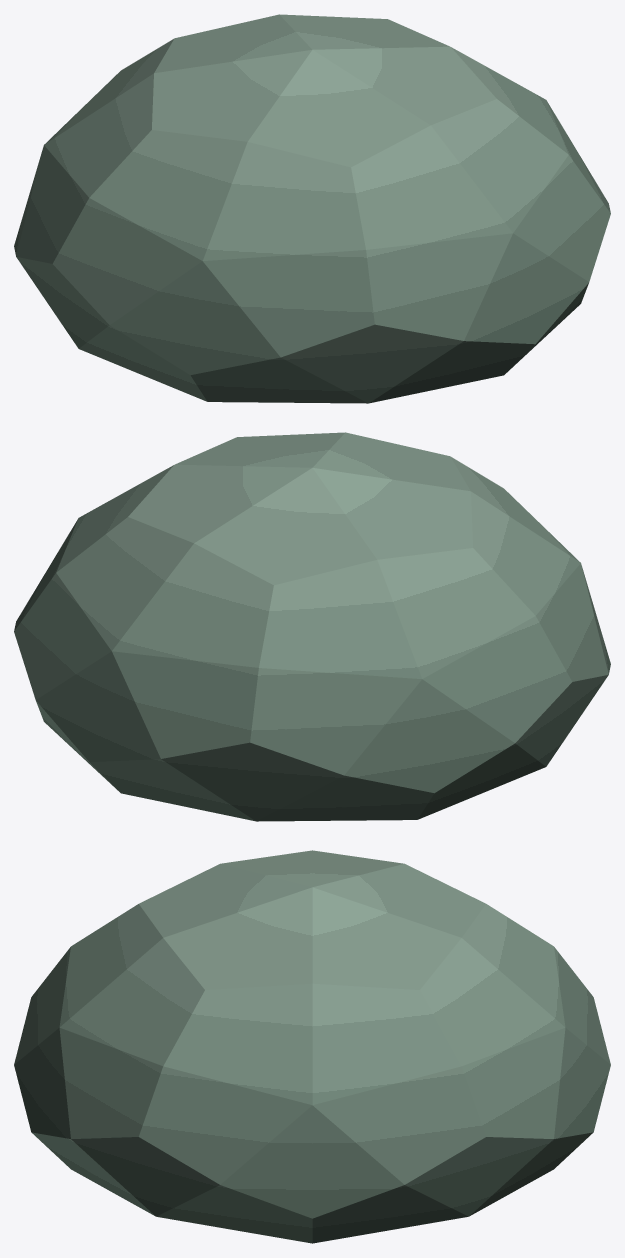
Rendered from rocks-0.fbx.
3 renders of one model, top to bottom at view 1: azimuth 30°, elevation 25°; view 2: azimuth 150°, elevation 25°; view 3: azimuth 270°, elevation 25°, orthographic.
Visible parts, largest first — view 1: Icosphere; view 2: Icosphere; view 3: Icosphere.
Part boxes in pixels (x1,y1,x2,y2): Icosphere: (14, 14, 610, 403); Icosphere: (14, 432, 610, 821); Icosphere: (14, 850, 610, 1243).
Size of the model in its own units: 257 by 132 by 259.
